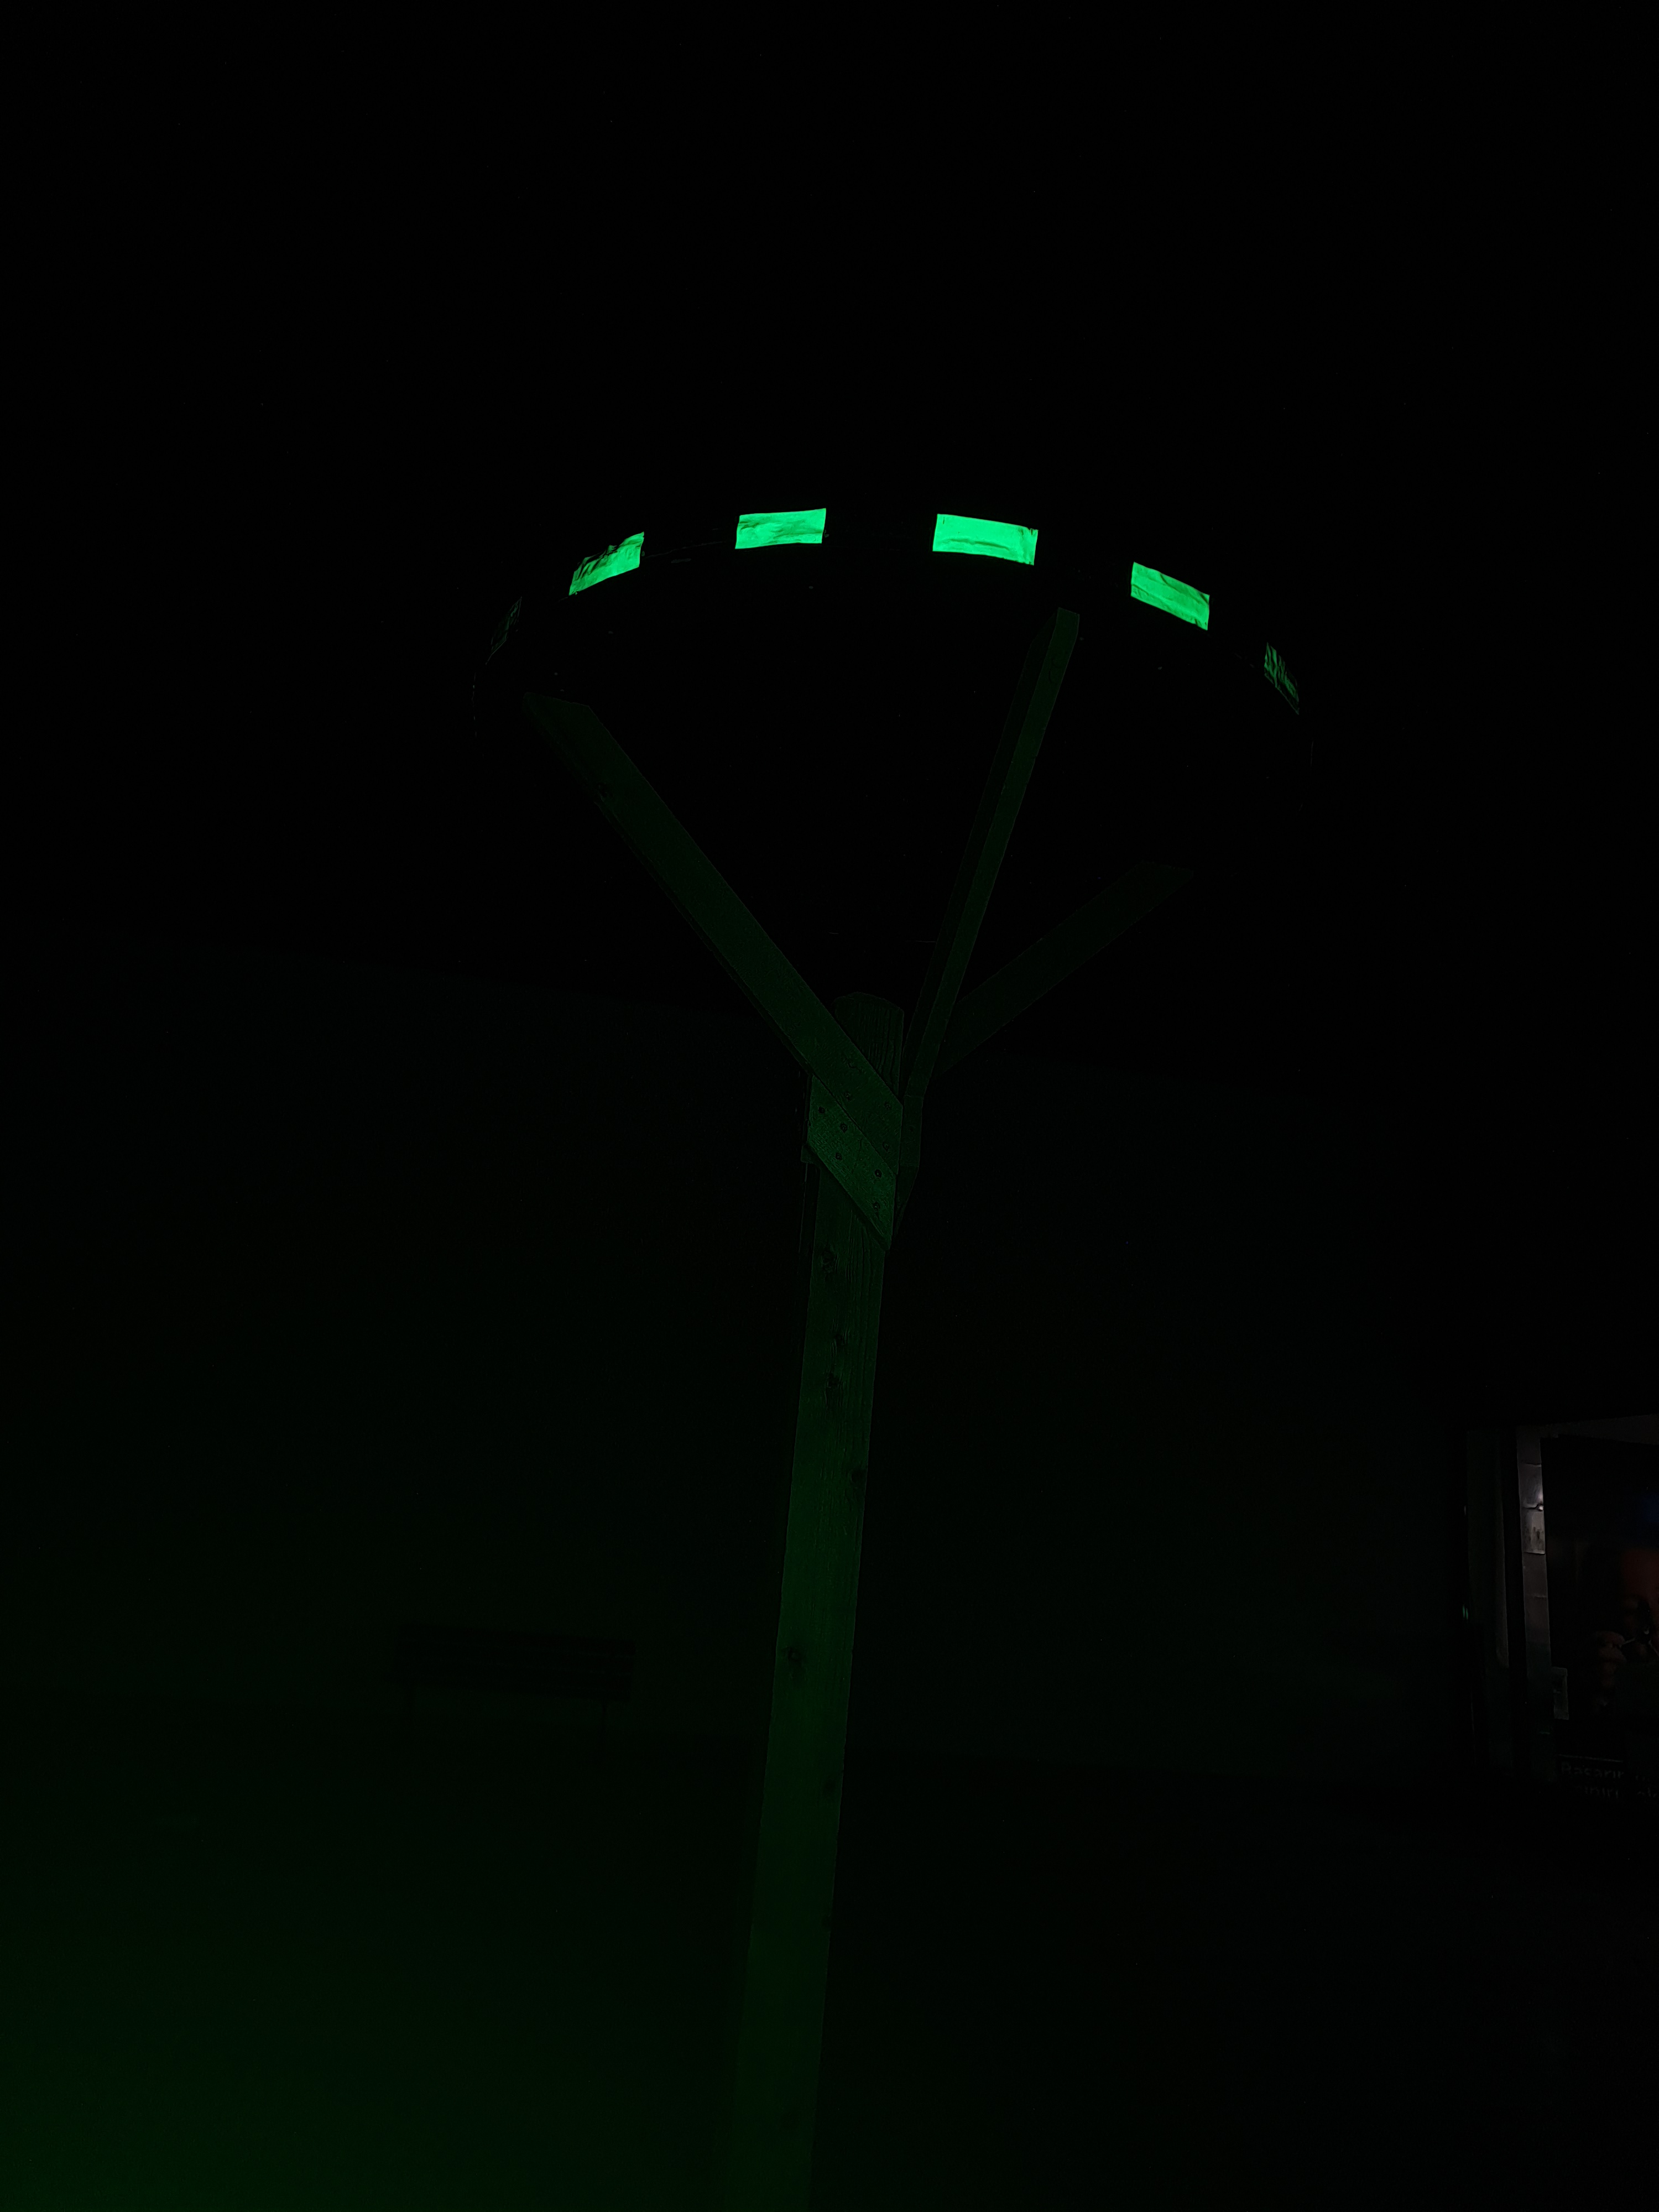hoop: (570, 502, 1305, 709)
